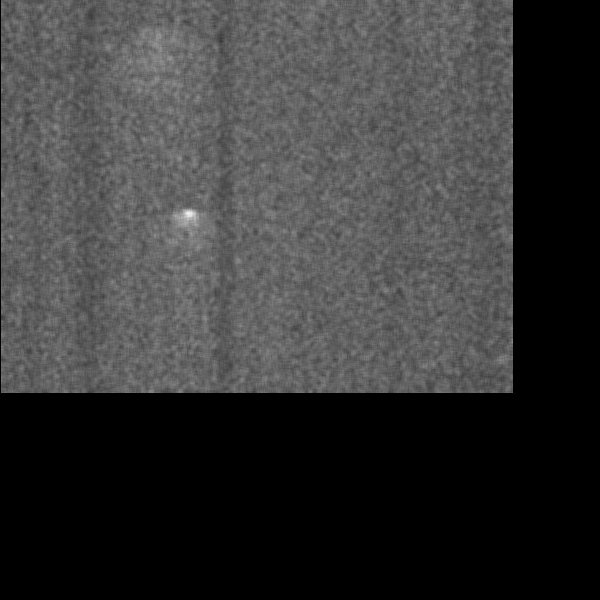spark: (97, 49, 191, 70), (175, 203, 204, 243)
